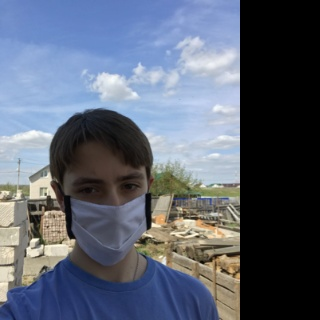with_mask: (62, 159, 152, 266)
